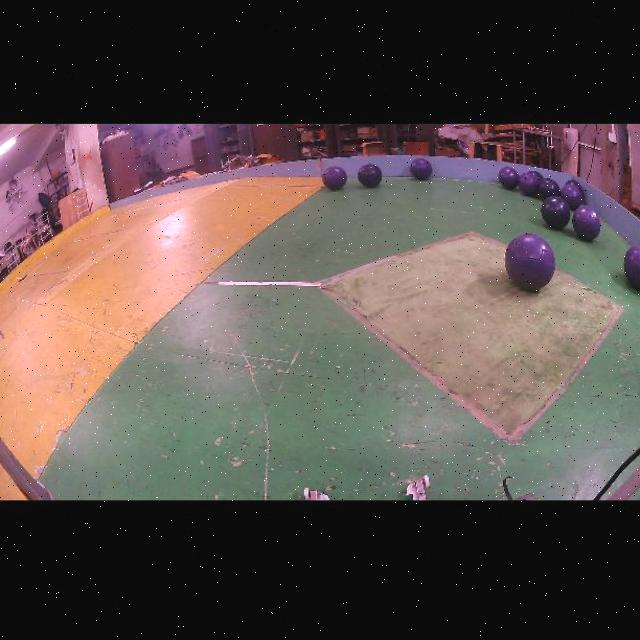B: (541, 195, 571, 229), (358, 163, 383, 187), (538, 178, 561, 198), (529, 170, 544, 180)
P: (504, 233, 555, 290), (572, 205, 601, 241), (623, 244, 640, 289), (561, 183, 583, 209), (323, 165, 347, 188), (517, 171, 540, 195), (410, 157, 432, 179), (498, 166, 519, 188)
